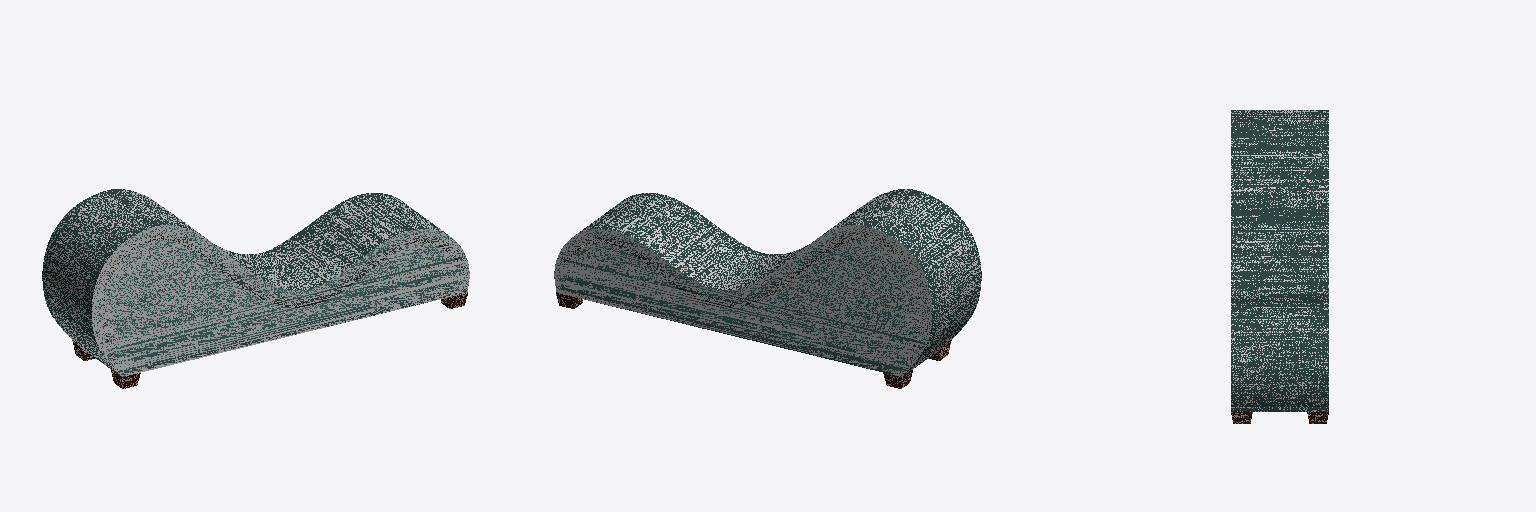
3 views of the same model, side by side, from view 1: azimuth 30°, elevation 25°; view 2: azimuth 150°, elevation 25°; view 3: azimuth 270°, elevation 25° (orthographic).
Parts seen in each view (by area): view 1: mesh5_mesh5-geometry; view 2: mesh5_mesh5-geometry; view 3: mesh5_mesh5-geometry.
Part boxes in pixels (left/top/right/bottom): mesh5_mesh5-geometry: left=42, top=189, right=469, bottom=376; mesh5_mesh5-geometry: left=554, top=189, right=981, bottom=376; mesh5_mesh5-geometry: left=1231, top=110, right=1328, bottom=411.
Size of the model in its own units: 0.9107 by 0.3586 by 0.205.
Materials: 5 (2 with a texture image).